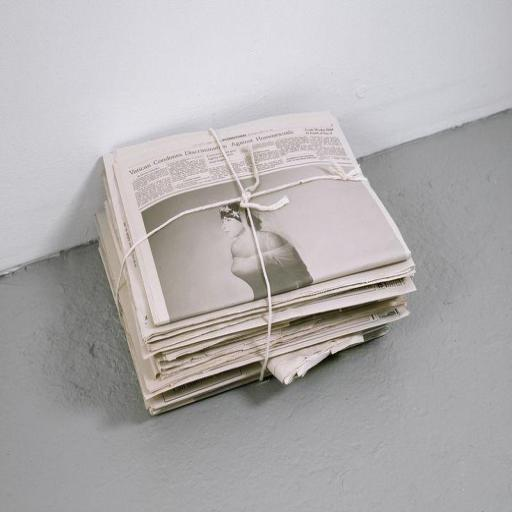paper: (93, 112, 418, 418)
